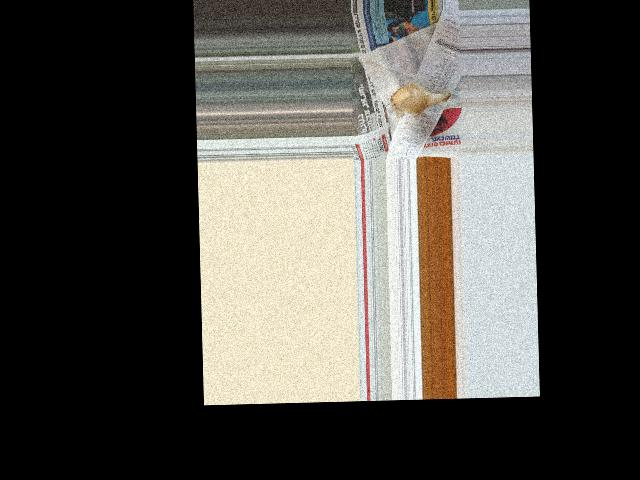onion: (392, 82, 435, 113)
